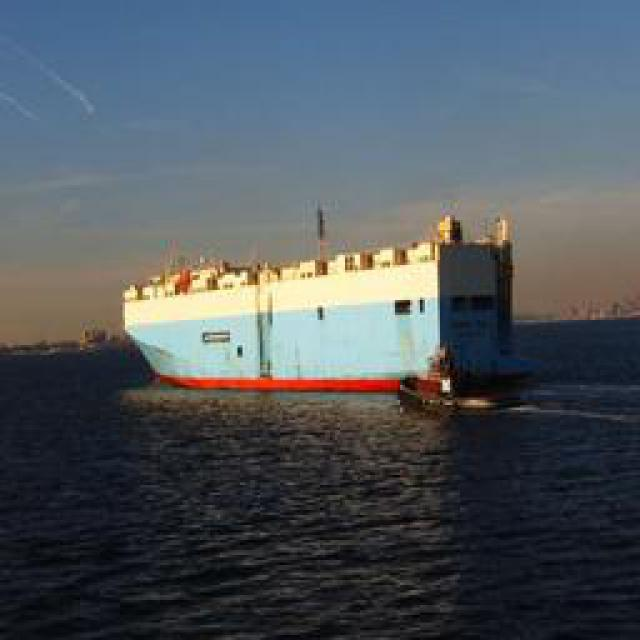Ship: (123, 208, 531, 397)
